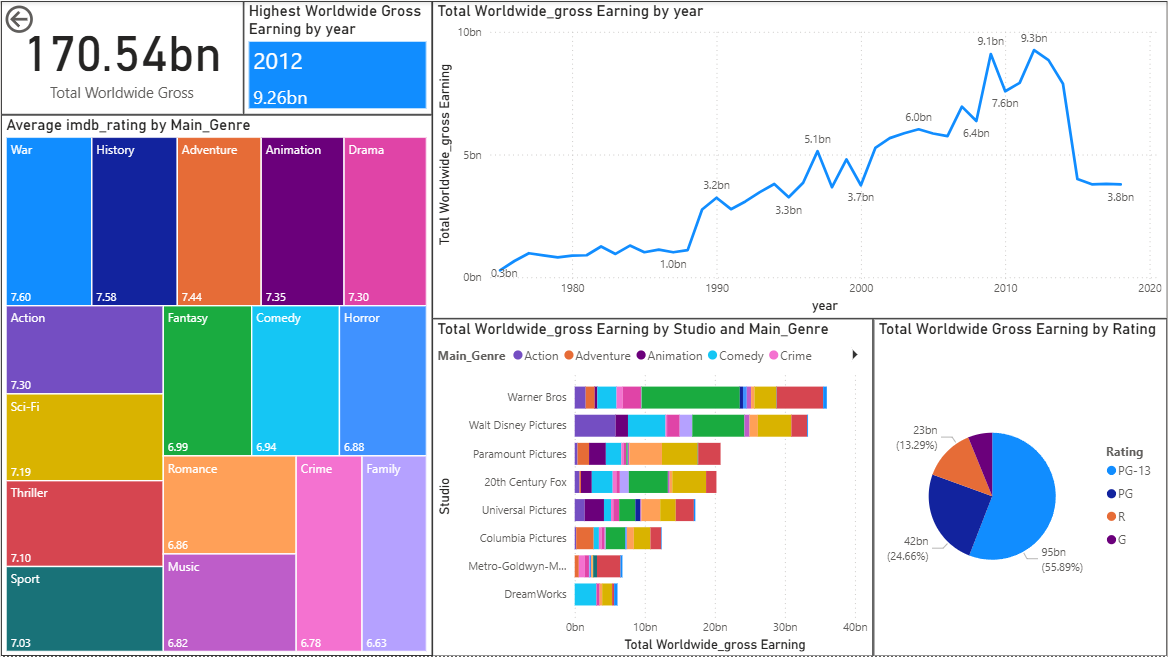

What the dashboard file says about the page in this screenshot:
{"tool":"powerbi","page":{"name":"Blockbusters","canvas":[1280,720],"ordinal":1},"visuals":[{"type":"card","fields":{"Values":["Sum(blockbusters.worldwide_gross)"]},"box":[0,0,266.2,124.9],"z":0},{"type":"treemap","title":"Highest Worldwide Gross Earning by year","fields":{"Values":["Sum(blockbusters.worldwide_gross)"],"Group":["blockbusters.year"]},"box":[266.2,0,207.2,124.9],"z":1000},{"type":"treemap","title":"Average imdb_rating by Main_Genre","fields":{"Group":["blockbusters.Main_Genre"],"Values":["Avg(blockbusters.imdb_rating)"]},"box":[0,124.9,473.4,595.5],"z":2000},{"type":"lineChart","fields":{"Category":["blockbusters.year"],"Y":["Sum(blockbusters.worldwide_gross)"]},"box":[473.4,0,806.9,348.5],"z":3000},{"type":"actionButton","box":[0,0,100,40],"z":4000},{"type":"barChart","fields":{"Y":["Sum(blockbusters.worldwide_gross)"],"Category":["blockbusters.studio"],"Series":["blockbusters.Main_Genre"]},"box":[473.4,348.5,484.4,371.9],"z":5000},{"type":"pieChart","fields":{"Category":["blockbusters.rating"],"Y":["Sum(blockbusters.worldwide_gross)"]},"box":[957.8,348.5,322.5,371.9],"z":6000}]}

Visuals, with their boxes in screenshot pixels (x1, y1, x2, y2), scaled from the page's 1280x720 canvas onto the 1168x657 screenshot:
card - Sum(blockbusters.worldwide_gross): box(0, 0, 243, 114)
"Highest Worldwide Gross Earning by year" treemap: box(243, 0, 432, 114)
"Average imdb_rating by Main_Genre" treemap: box(0, 114, 432, 656)
lineChart - blockbusters.year x Sum(blockbusters.worldwide_gross): box(432, 0, 1167, 318)
actionButton: box(0, 0, 91, 36)
barChart - Sum(blockbusters.worldwide_gross) x blockbusters.studio: box(432, 318, 874, 656)
pieChart - blockbusters.rating x Sum(blockbusters.worldwide_gross): box(874, 318, 1167, 656)
